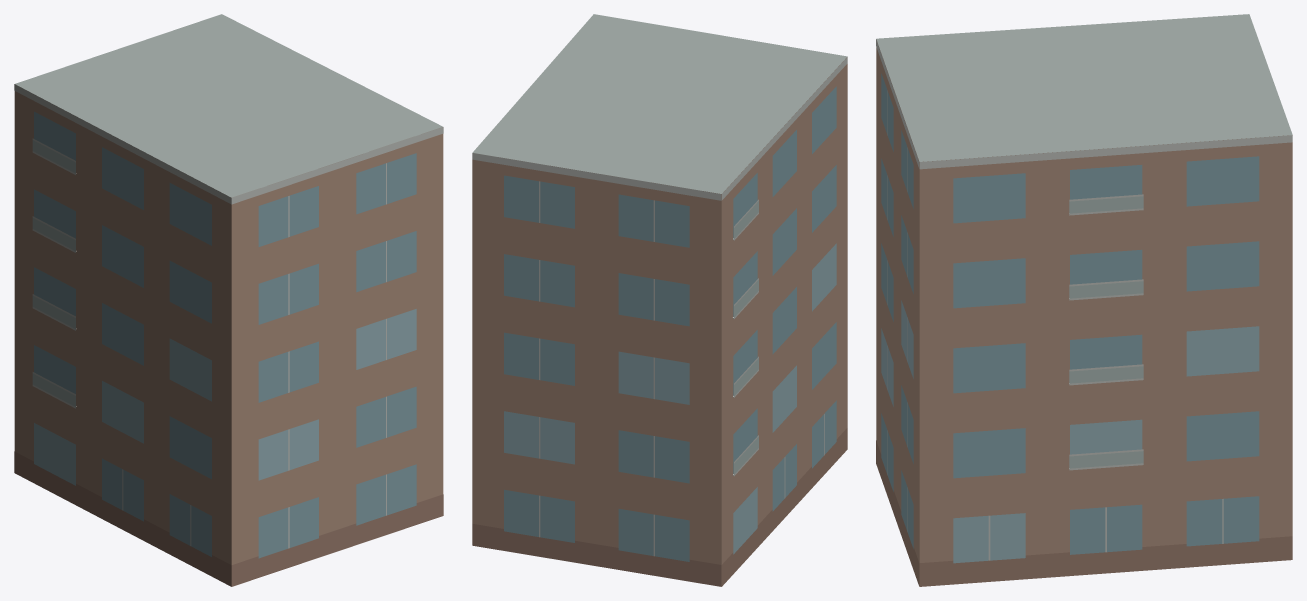
Rendered from survey-upis-32716155.glb.
3 renders of one model, left to right at view 1: azimuth 30°, elevation 25°; view 2: azimuth 150°, elevation 25°; view 3: azimuth 270°, elevation 25°, orthographic. The views are drawn at different scales.
Visible parts, largest first — view 1: survey-upis-32716155.tmp; view 2: survey-upis-32716155.tmp; view 3: survey-upis-32716155.tmp.
Part boxes in pixels (x1,y1,x2,y2): survey-upis-32716155.tmp: (14,14,443,586); survey-upis-32716155.tmp: (472,14,847,586); survey-upis-32716155.tmp: (876,14,1292,586).
Bounding box in the file's own units: 10.54 × 14.1 × 12.54.
